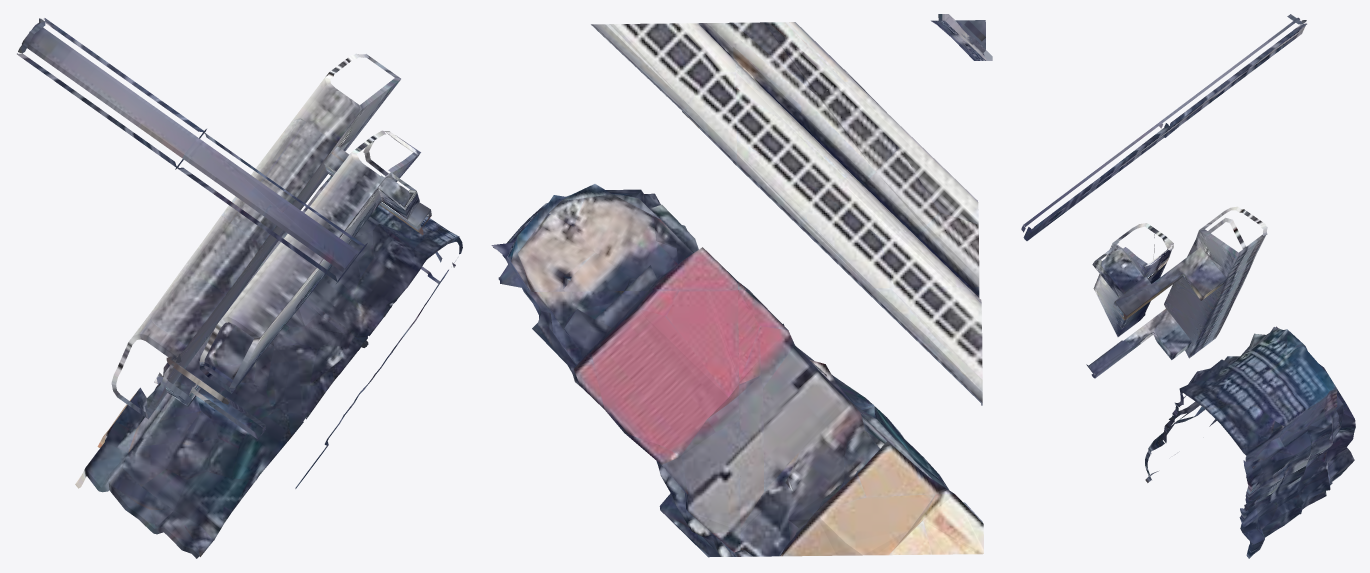
The picture shows the model from 3 angles, left to right: view 1: azimuth 30°, elevation 25°; view 2: azimuth 150°, elevation 25°; view 3: azimuth 270°, elevation 25°; orthographic projection. The views are drawn at different scales.
Bounding box in the file's own units: 43.5 × 50.38 × 34.31.
2 materials, 2 textured.
